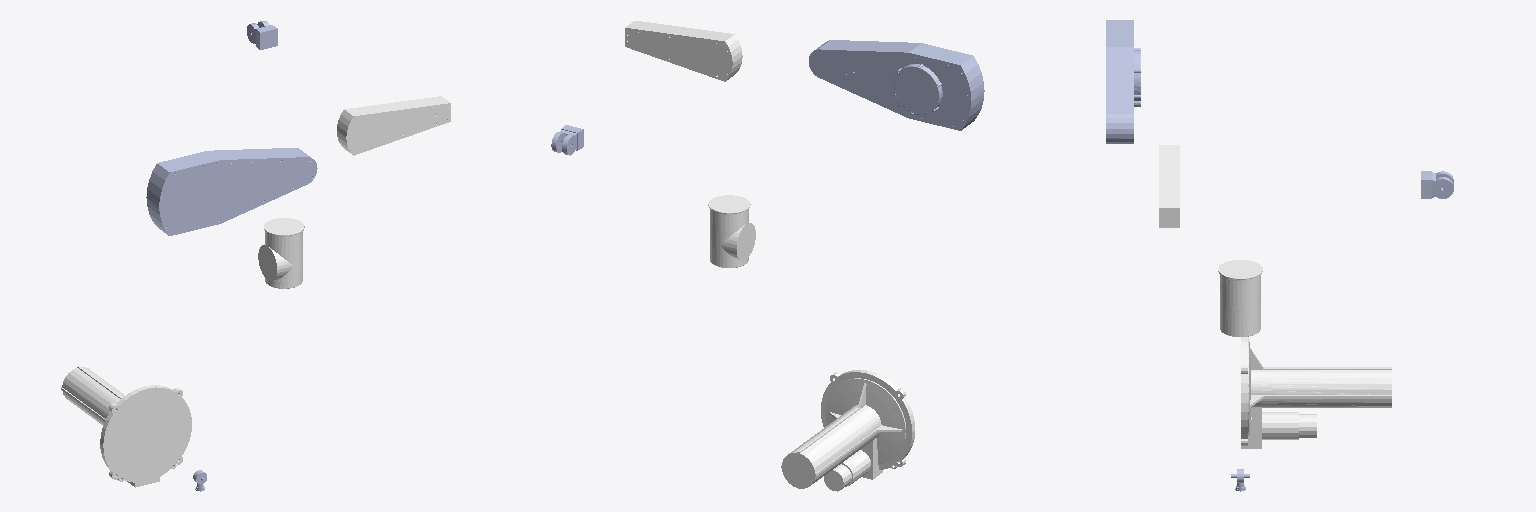
The robot description file, URDF, robot "puma560_robot":
<?xml version="1.0" encoding="utf-8"?>
<!-- This URDF was automatically created by SolidWorks to URDF Exporter! Originally created by [author] ([email redacted]) 
     Commit Version: 1.5.1-0-g916b5db  Build Version: 1.5.7152.31018
     For more information, please see http://wiki.ros.org/sw_urdf_exporter -->
<robot
  name="puma560_robot">
  <link
    name="base_link">
    <inertial>
      <origin
        xyz="-9.5399E-11 0.021962 0.19252"
        rpy="0 0 0" />
      <mass
        value="15.787" />
      <inertia
        ixx="0.55024"
        ixy="-2.863E-11"
        ixz="-1.6743E-10"
        iyy="0.50424"
        iyz="0.022162"
        izz="0.16071" />
    </inertial>
    <visual>
      <origin
        xyz="0 0 0"
        rpy="0 0 0" />
      <geometry>
        <mesh
          filename="package://puma560_robot/meshes/base_link.STL" />
      </geometry>
      <material
        name="white">
        <color
          rgba="1 1 1 0.5" />
      </material>
    </visual>
    <collision>
      <origin
        xyz="0 0 0"
        rpy="0 0 0" />
      <geometry>
        <mesh
          filename="package://puma560_robot/meshes/base_link.STL" />
      </geometry>
    </collision>
  </link>
  <link
    name="waist_link">
    <inertial>
      <origin
        xyz="0.022505 1.5634E-07 -0.0027897"
        rpy="0 0 0" />
      <mass
        value="4.4341" />
      <inertia
        ixx="0.013316"
        ixy="1.005E-08"
        ixz="-0.00027854"
        iyy="0.027328"
        iyz="-7.7933E-09"
        izz="0.027164" />
    </inertial>
    <visual>
      <origin
        xyz="0 0 0"
        rpy="0 0 0" />
      <geometry>
        <mesh
          filename="package://puma560_robot/meshes/waist_link.STL" />
      </geometry>
      <material
        name="white">
        <color
          rgba="1 1 1 0.5" />
      </material>
    </visual>
    <collision>
      <origin
        xyz="0 0 0"
        rpy="0 0 0" />
      <geometry>
        <mesh
          filename="package://puma560_robot/meshes/waist_link.STL" />
      </geometry>
    </collision>
  </link>
  <joint
    name="joint_base_to_waist"
    type="revolute">
    <origin
      xyz="0 0 0.62357"
      rpy="0 0 -1.5708" />
    <parent
      link="base_link" />
    <child
      link="waist_link" />
    <axis
      xyz="0 0 1" />
    <limit
      lower="-2.7925"
      upper="2.7925"
      effort="0"
      velocity="0" />
  </joint>
  <link
    name="shoulder">
    <inertial>
      <origin
        xyz="0.082737 -4.6775E-05 -0.0031596"
        rpy="0 0 0" />
      <mass
        value="16.847" />
      <inertia
        ixx="0.09723"
        ixy="-7.8859E-06"
        ixz="-0.0043475"
        iyy="0.59657"
        iyz="-4.8383E-05"
        izz="0.65976" />
    </inertial>
    <visual>
      <origin
        xyz="0 0 0"
        rpy="0 0 0" />
      <geometry>
        <mesh
          filename="package://puma560_robot/meshes/shoulder.STL" />
      </geometry>
      <material
        name="ecolor">
        <color
          rgba="0.79216 0.81961 0.93333 0.5" />
      </material>
    </visual>
    <collision>
      <origin
        xyz="0 0 0"
        rpy="0 0 0" />
      <geometry>
        <mesh
          filename="package://puma560_robot/meshes/shoulder.STL" />
      </geometry>
    </collision>
  </link>
  <joint
    name="joint_waist_to_shoulder"
    type="revolute">
    <origin
      xyz="0.21844 0 0"
      rpy="1.5708 0 1.5708" />
    <parent
      link="waist_link" />
    <child
      link="shoulder" />
    <axis
      xyz="0 0 1" />
    <limit
      lower="-1.9199"
      upper="1.9199"
      effort="0"
      velocity="0" />
  </joint>
  <link
    name="elbow_link">
    <inertial>
      <origin
        xyz="0.088774 1.1788E-06 1.5623E-06"
        rpy="0 0 0" />
      <mass
        value="4.6025" />
      <inertia
        ixx="0.0091916"
        ixy="-4.837E-07"
        ixz="2.2739E-06"
        iyy="0.082615"
        iyz="-3.6529E-07"
        izz="0.087355" />
    </inertial>
    <visual>
      <origin
        xyz="0 0 0"
        rpy="0 0 0" />
      <geometry>
        <mesh
          filename="package://puma560_robot/meshes/elbow_link.STL" />
      </geometry>
      <material
        name="white">
        <color
          rgba="1 1 1 0.5" />
      </material>
    </visual>
    <collision>
      <origin
        xyz="0 0 0"
        rpy="0 0 0" />
      <geometry>
        <mesh
          filename="package://puma560_robot/meshes/elbow_link.STL" />
      </geometry>
    </collision>
  </link>
  <joint
    name="joint_shoulder_to_elbow"
    type="revolute">
    <origin
      xyz="0.4318 0 -0.0889"
      rpy="0 0 0" />
    <parent
      link="shoulder" />
    <child
      link="elbow_link" />
    <axis
      xyz="0 0 -1" />
    <limit
      lower="-2.3562"
      upper="2.3562"
      effort="0"
      velocity="0" />
  </joint>
  <link
    name="wrist_bend_link">
    <inertial>
      <origin
        xyz="0 0 0.02757"
        rpy="0 0 0" />
      <mass
        value="0.47079" />
      <inertia
        ixx="0.00073772"
        ixy="4.6144E-21"
        ixz="3.7347E-20"
        iyy="0.00077289"
        iyz="1.5125E-19"
        izz="0.00046683" />
    </inertial>
    <visual>
      <origin
        xyz="0 0 0"
        rpy="0 0 0" />
      <geometry>
        <mesh
          filename="package://puma560_robot/meshes/wrist_bend_link.STL" />
      </geometry>
      <material
        name="scolor">
        <color
          rgba="0.79216 0.81961 0.93333 0.5" />
      </material>
    </visual>
    <collision>
      <origin
        xyz="0 0 0"
        rpy="0 0 0" />
      <geometry>
        <mesh
          filename="package://puma560_robot/meshes/wrist_bend_link.STL" />
      </geometry>
    </collision>
  </link>
  <joint
    name="joint_elbow_to_wrist_bend"
    type="revolute">
    <origin
      xyz="0.37211 0 0"
      rpy="0 1.5708 0" />
    <parent
      link="elbow_link" />
    <child
      link="wrist_bend_link" />
    <axis
      xyz="0 0 1" />
    <limit
      lower="-1.7453"
      upper="1.7453"
      effort="0"
      velocity="0" />
  </joint>
  <link
    name="wrist_roll_link">
    <inertial>
      <origin
        xyz="3.9262E-10 -0.010974 2.7756E-17"
        rpy="0 0 0" />
      <mass
        value="0.077406" />
      <inertia
        ixx="4.3032E-05"
        ixy="-1.1303E-12"
        ixz="-1.2065E-11"
        iyy="1.6966E-05"
        iyz="1.2248E-20"
        izz="4.5414E-05" />
    </inertial>
    <visual>
      <origin
        xyz="0 0 0"
        rpy="0 0 0" />
      <geometry>
        <mesh
          filename="package://puma560_robot/meshes/wrist_roll_link.STL" />
      </geometry>
      <material
        name="dcolor">
        <color
          rgba="0.79216 0.81961 0.93333 0.5" />
      </material>
    </visual>
    <collision>
      <origin
        xyz="0 0 0"
        rpy="0 0 0" />
      <geometry>
        <mesh
          filename="package://puma560_robot/meshes/wrist_roll_link.STL" />
      </geometry>
    </collision>
  </link>
  <joint
    name="joint_wrist_bend_to_roll"
    type="revolute">
    <origin
      xyz="0 0 0.059979"
      rpy="-1.5708 0 -1.5708" />
    <parent
      link="wrist_bend_link" />
    <child
      link="wrist_roll_link" />
    <axis
      xyz="0 0 1" />
    <limit
      lower="-2.094395102"
      upper="2.094395102"
      effort="0"
      velocity="0" />
  </joint>
</robot>

--- Facts derived from the render (not from the file) ---
3 views of the same robot in one strip: view 1: azimuth 30°, elevation 25°; view 2: azimuth 150°, elevation 25°; view 3: azimuth 270°, elevation 25° (orthographic).
Robot: puma560_robot — 6 links, 5 joints (5 revolute); root link base_link; default pose: all joints at 0.
Visible links, largest first — view 1: shoulder, base_link, elbow_link, waist_link, wrist_bend_link; view 2: shoulder, base_link, elbow_link, waist_link, wrist_bend_link; view 3: base_link, shoulder, waist_link, elbow_link, wrist_bend_link.
Link boxes in pixels (bbox=[...]): shoulder: bbox=[146, 148, 317, 235]; base_link: bbox=[61, 366, 191, 487]; elbow_link: bbox=[337, 96, 450, 155]; waist_link: bbox=[258, 218, 304, 288]; wrist_bend_link: bbox=[247, 21, 277, 49]; shoulder: bbox=[809, 40, 984, 130]; base_link: bbox=[781, 370, 914, 491]; elbow_link: bbox=[625, 21, 742, 81]; waist_link: bbox=[708, 195, 755, 267]; wrist_bend_link: bbox=[551, 125, 583, 155]; base_link: bbox=[1241, 337, 1391, 448]; shoulder: bbox=[1106, 20, 1140, 143]; waist_link: bbox=[1218, 260, 1262, 336]; elbow_link: bbox=[1159, 145, 1179, 227]; wrist_bend_link: bbox=[1421, 171, 1453, 198].
Size in the robot's own frame: 1.44 by 1.26 by 1.68 metres.
Meshes: 6 distinct files referenced, 6 mesh visuals loaded (6 binary STL).